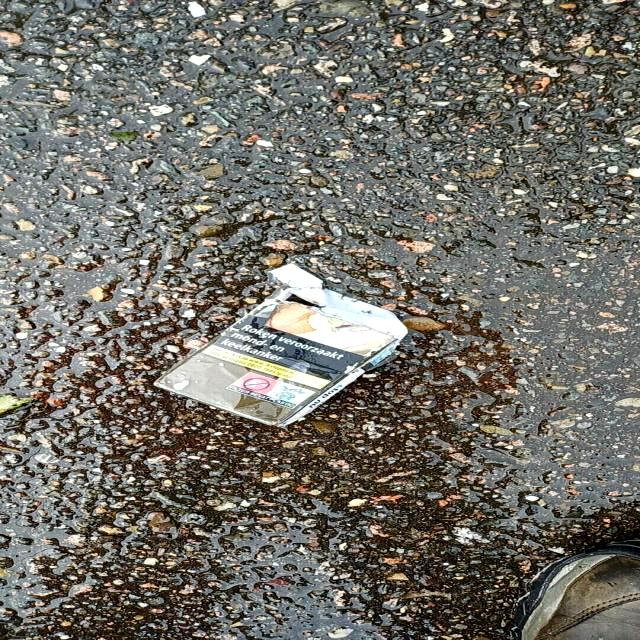Paper: (146, 262, 410, 430)
